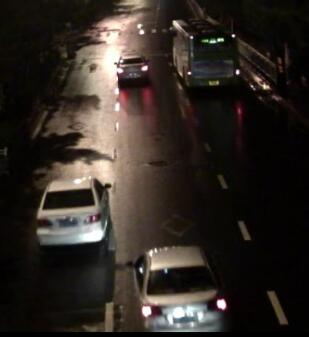bus: (169, 16, 240, 89)
car: (124, 243, 229, 332), (35, 176, 109, 244), (113, 52, 150, 80)
